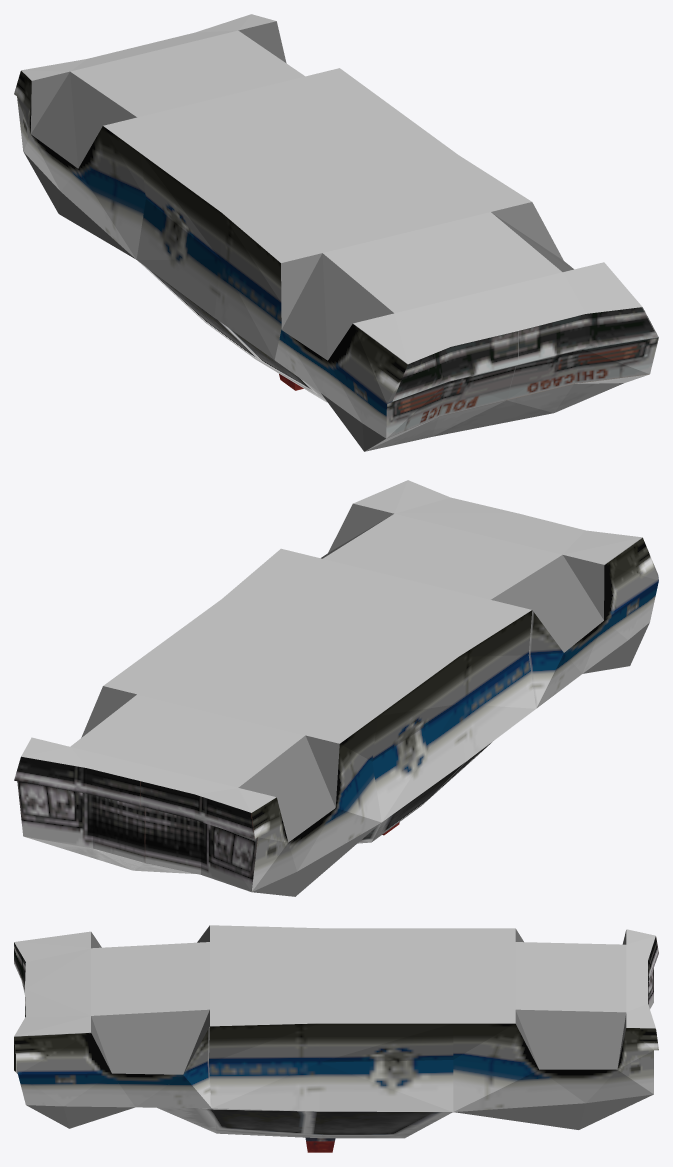
File: CHICAGO_model0_damaged.obj
3 views of the same model, one above another, from view 1: azimuth 30°, elevation 25°; view 2: azimuth 150°, elevation 25°; view 3: azimuth 270°, elevation 25° (orthographic). The views are drawn at different scales.
Visible parts, largest first — view 1: CHICAGO_model0_damaged; view 2: CHICAGO_model0_damaged; view 3: CHICAGO_model0_damaged.
Boxes of the visible parts, x1,y1,x2,y2 form: CHICAGO_model0_damaged: [14, 14, 658, 451]; CHICAGO_model0_damaged: [14, 480, 658, 896]; CHICAGO_model0_damaged: [14, 925, 658, 1152].
Bounding box in the file's own units: 272 × 174 × 652.
